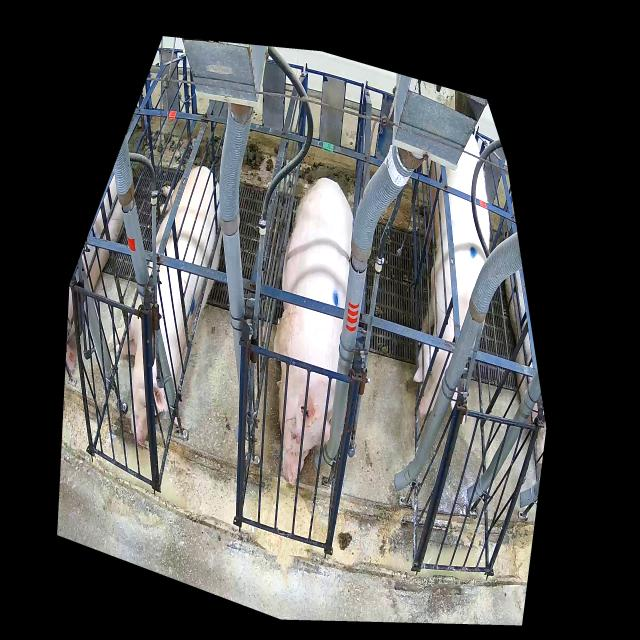pig: (108, 166, 222, 445), (273, 178, 353, 485), (413, 133, 490, 425)
